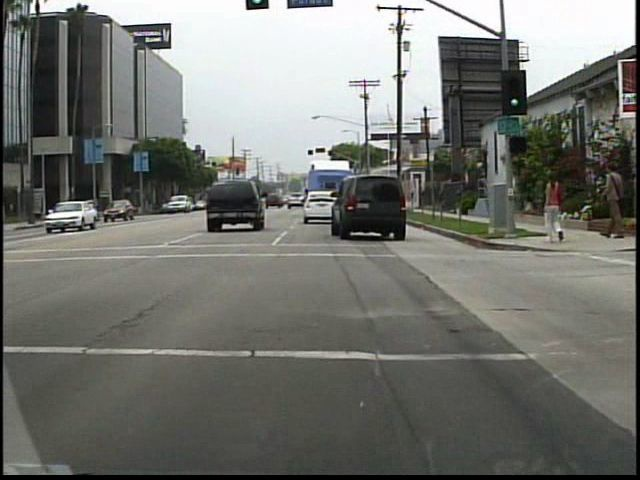person: (533, 169, 570, 248), (597, 156, 628, 243)
